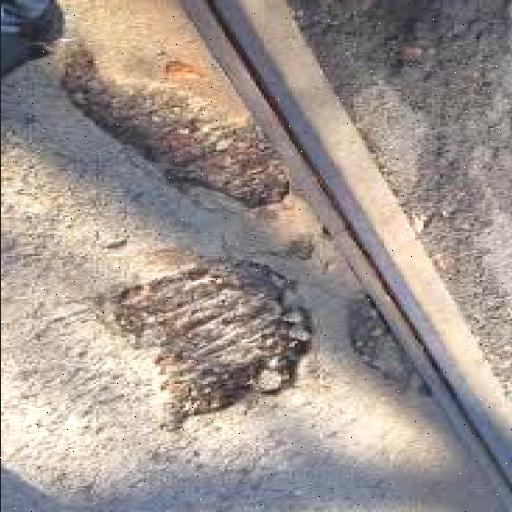spalling: (48, 38, 293, 208), (101, 257, 310, 416)
